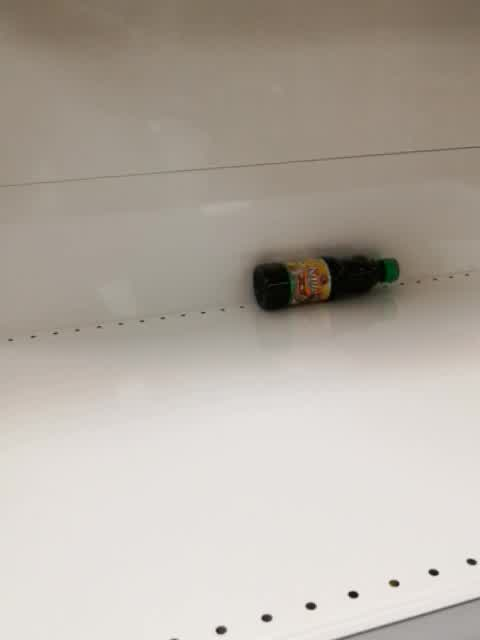cookingoil: (249, 253, 401, 311)
